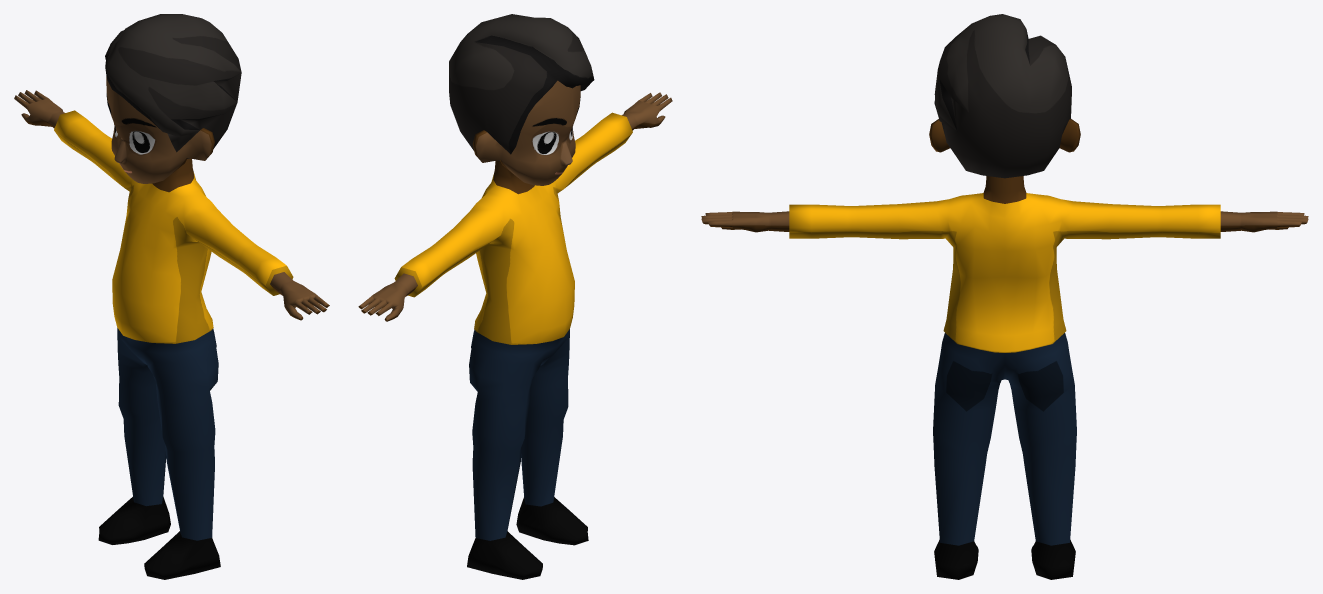
Rendered from boy_1.fbx.
The picture shows the model from 3 angles, left to right: view 1: azimuth 30°, elevation 25°; view 2: azimuth 150°, elevation 25°; view 3: azimuth 270°, elevation 25°; orthographic projection. The views are drawn at different scales.
Parts seen in each view (by area): view 1: boy1; view 2: boy1; view 3: boy1.
Boxes of the visible parts, <box> form: boy1: <box>14,14,329,579</box>; boy1: <box>358,14,672,579</box>; boy1: <box>701,14,1308,579</box>.
Size of the model in its own units: 36.02 by 147 by 150.
Materials: 1 (1 with a texture image).
